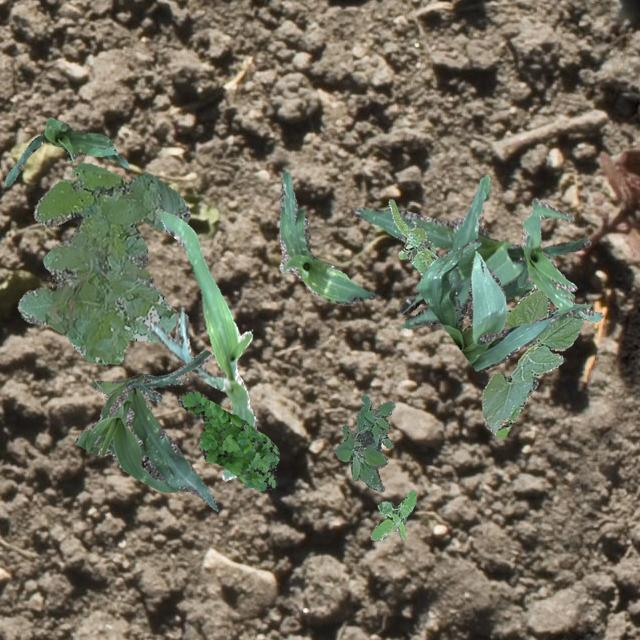crop: (352, 175, 590, 328), (148, 206, 256, 479), (75, 350, 216, 510), (416, 238, 578, 372), (480, 286, 590, 438), (278, 172, 374, 304), (516, 197, 602, 321), (2, 116, 128, 186)
weed: (17, 162, 188, 364), (176, 390, 278, 490), (334, 394, 394, 491), (388, 198, 440, 274), (370, 490, 414, 540)
